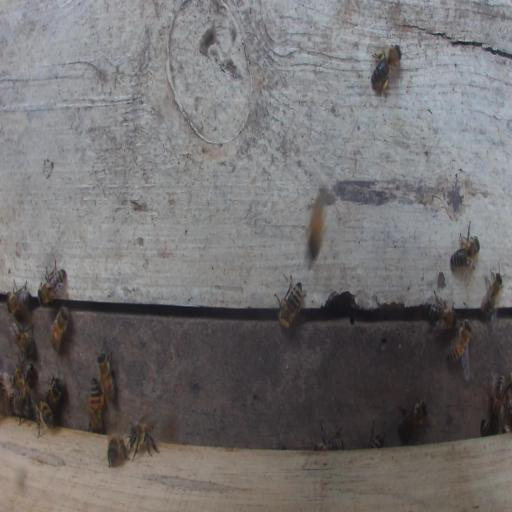bee: (275, 277, 304, 333), (307, 187, 327, 265), (371, 44, 403, 92), (126, 415, 159, 461), (397, 397, 428, 443), (38, 258, 67, 306), (448, 232, 480, 274), (429, 293, 456, 335), (448, 318, 472, 365), (97, 349, 116, 403), (6, 278, 30, 320), (482, 271, 503, 319), (50, 304, 70, 354), (9, 321, 35, 357), (314, 418, 343, 450), (89, 378, 104, 434), (13, 359, 33, 398), (107, 433, 129, 468), (34, 400, 53, 438), (10, 391, 32, 421), (45, 373, 62, 411), (365, 420, 387, 448), (493, 375, 505, 422), (480, 418, 490, 436)
